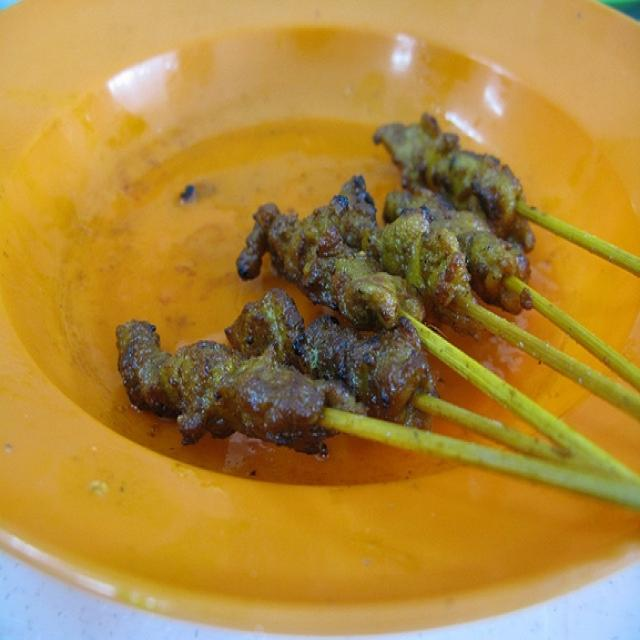牛肉菜式: (8, 14, 621, 592)
